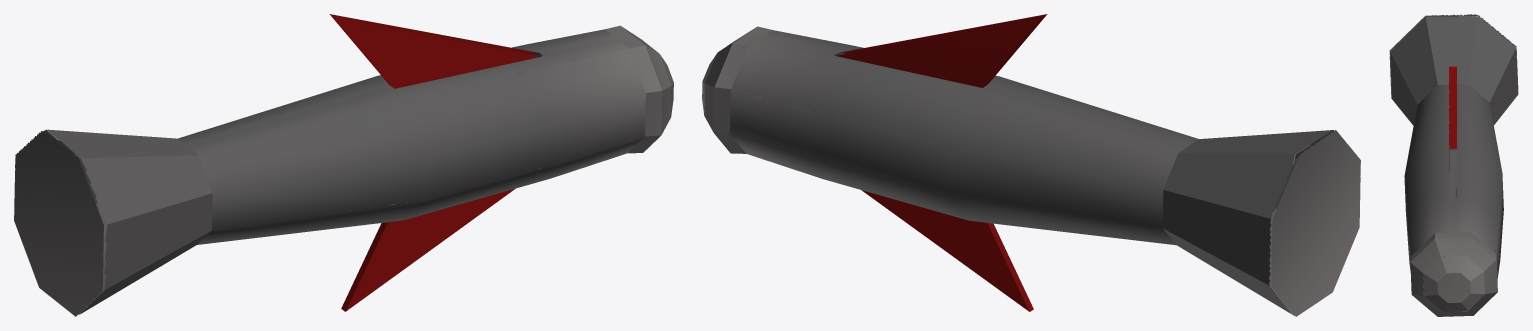
The model's file is rocket.obj.
3 renders of one model, left to right at view 1: azimuth 30°, elevation 25°; view 2: azimuth 150°, elevation 25°; view 3: azimuth 270°, elevation 25°, orthographic. The views are drawn at different scales.
Visible parts, largest first — view 1: Cylinder001; view 2: Cylinder001; view 3: Cylinder001.
Part boxes in pixels (x1,y1,x2,y2): Cylinder001: (14, 14, 673, 316); Cylinder001: (702, 14, 1360, 316); Cylinder001: (1389, 14, 1518, 316).
Size of the model in its own units: 93.09 by 43.94 by 24.04.
